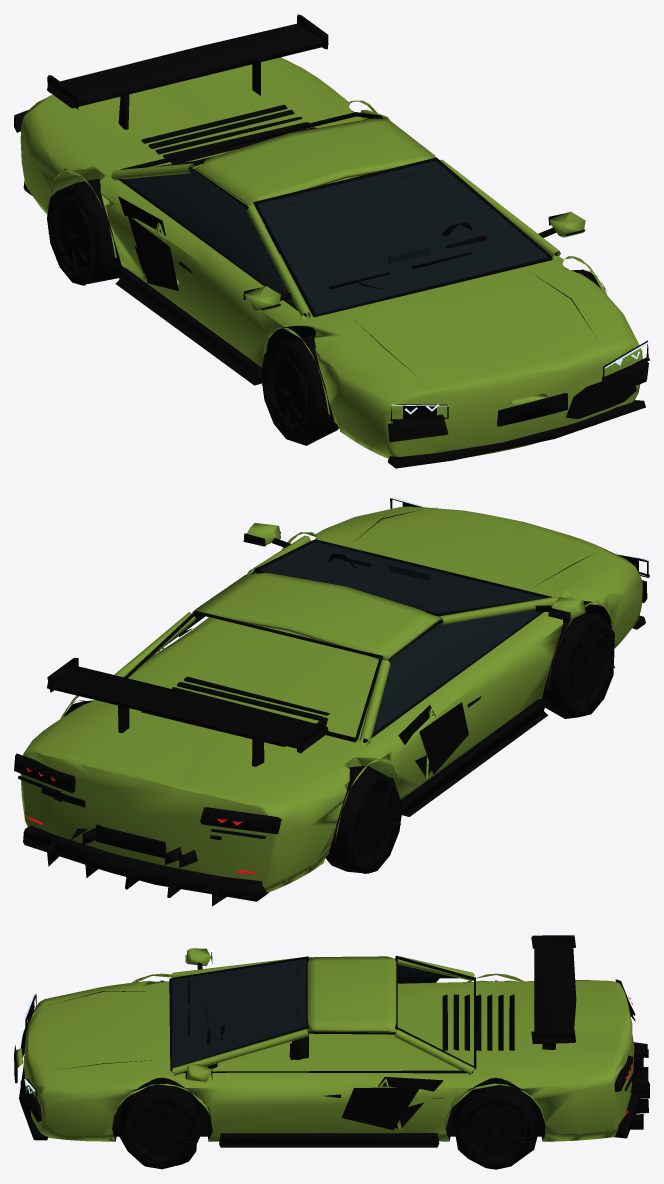
Rendered from lamborghini-far.glb.
The picture shows the model from 3 angles, top to bottom: view 1: azimuth 30°, elevation 25°; view 2: azimuth 150°, elevation 25°; view 3: azimuth 270°, elevation 25°; orthographic projection. The views are drawn at different scales.
Parts seen in each view (by area): view 1: chassis.001__Automotive clearcoat, chassis.001__Vehicle detail atlas, chassis.001__Solar glass, wheel_FL.001__Vehicle detail atlas, wheel_RL.001__Vehicle detail atlas; view 2: chassis.001__Automotive clearcoat, chassis.001__Vehicle detail atlas, chassis.001__Solar glass, wheel_RL.001__Vehicle detail atlas, wheel_FL.001__Vehicle detail atlas; view 3: chassis.001__Automotive clearcoat, chassis.001__Vehicle detail atlas, chassis.001__Solar glass, wheel_RR.001__Vehicle detail atlas, wheel_FR.001__Vehicle detail atlas.
Boxes of the visible parts, left/top/right/bottom form: chassis.001__Automotive clearcoat: left=20, top=57, right=642, bottom=458; chassis.001__Vehicle detail atlas: left=14, top=14, right=648, bottom=468; chassis.001__Solar glass: left=123, top=161, right=548, bottom=314; wheel_FL.001__Vehicle detail atlas: left=261, top=335, right=338, bottom=445; wheel_RL.001__Vehicle detail atlas: left=47, top=179, right=123, bottom=285; chassis.001__Automotive clearcoat: left=20, top=506, right=642, bottom=892; chassis.001__Vehicle detail atlas: left=14, top=498, right=648, bottom=906; chassis.001__Solar glass: left=187, top=542, right=544, bottom=733; wheel_RL.001__Vehicle detail atlas: left=325, top=765, right=402, bottom=873; wheel_FL.001__Vehicle detail atlas: left=541, top=613, right=614, bottom=718; chassis.001__Automotive clearcoat: left=16, top=948, right=634, bottom=1141; chassis.001__Vehicle detail atlas: left=14, top=935, right=649, bottom=1147; chassis.001__Solar glass: left=172, top=959, right=449, bottom=1067; wheel_RR.001__Vehicle detail atlas: left=452, top=1083, right=539, bottom=1169; wheel_FR.001__Vehicle detail atlas: left=118, top=1083, right=205, bottom=1169.
Size of the model in its own units: 2.41 by 1.18 by 5.14.
Materials: 8 (6 with a texture image).
